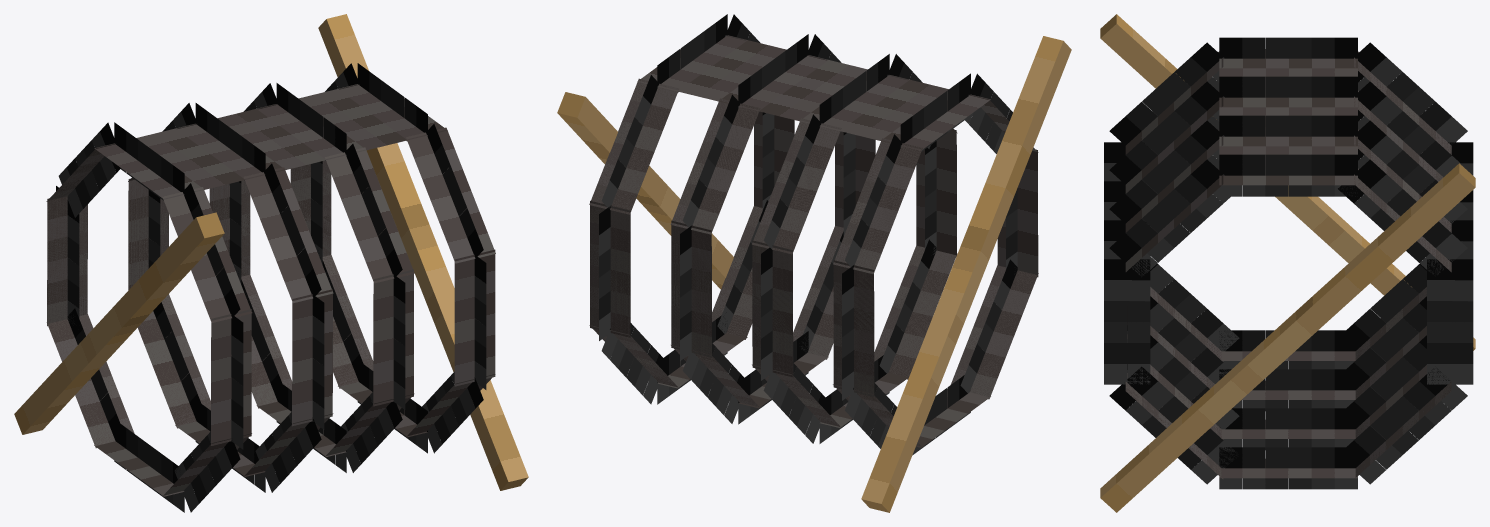
The model's file is barbed_wire_wither.obj.
3 renders of one model, left to right at view 1: azimuth 30°, elevation 25°; view 2: azimuth 150°, elevation 25°; view 3: azimuth 270°, elevation 25°, orthographic.
Parts seen in each view (by area): view 1: cube; view 2: cube; view 3: cube.
Part boxes in pixels (x1,y1,x2,y2): cube: (14, 14, 528, 512); cube: (557, 14, 1071, 512); cube: (1100, 14, 1475, 512).
Size of the model in its own units: 1 by 1.03 by 1.02.
